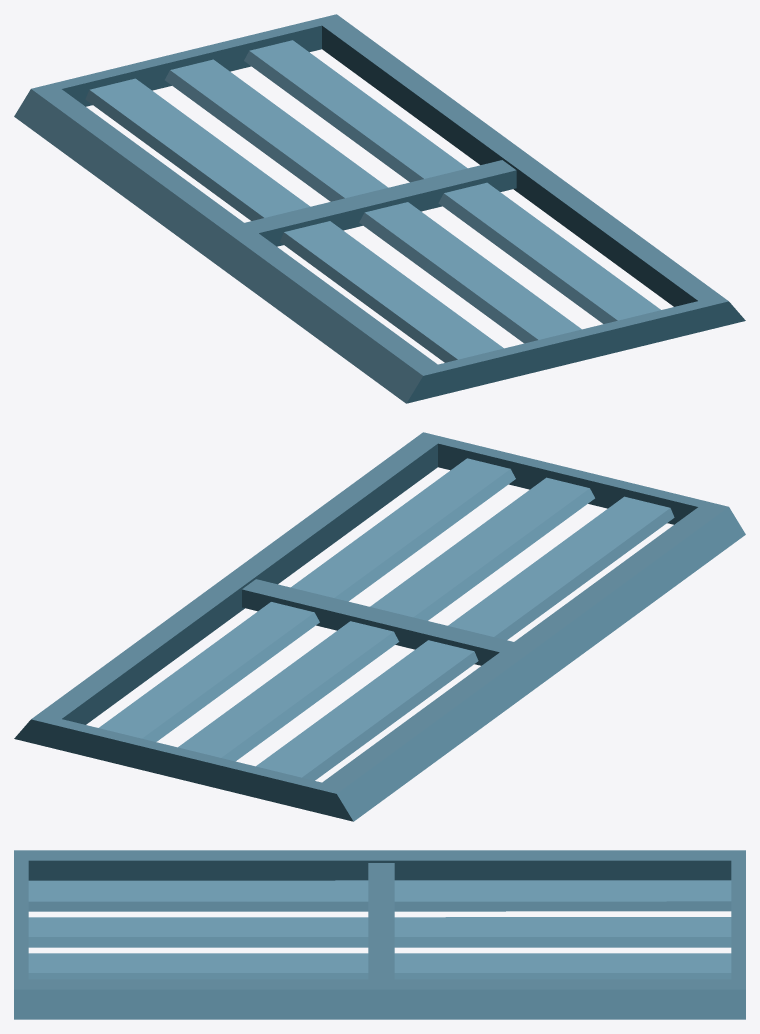
The model's file is Lane-factory_gap_fill.glb.
3 views of the same model, one above another, from view 1: azimuth 30°, elevation 25°; view 2: azimuth 150°, elevation 25°; view 3: azimuth 270°, elevation 25° (orthographic). The views are drawn at different scales.
Visible parts, largest first — view 1: Lane-factory_gap_fill; view 2: Lane-factory_gap_fill; view 3: Lane-factory_gap_fill.
Part boxes in pixels (x1,y1,x2,y2): Lane-factory_gap_fill: (14,14,745,403); Lane-factory_gap_fill: (14,432,745,821); Lane-factory_gap_fill: (14,850,745,1019).
Size of the model in its own units: 3 by 0.2 by 6.
